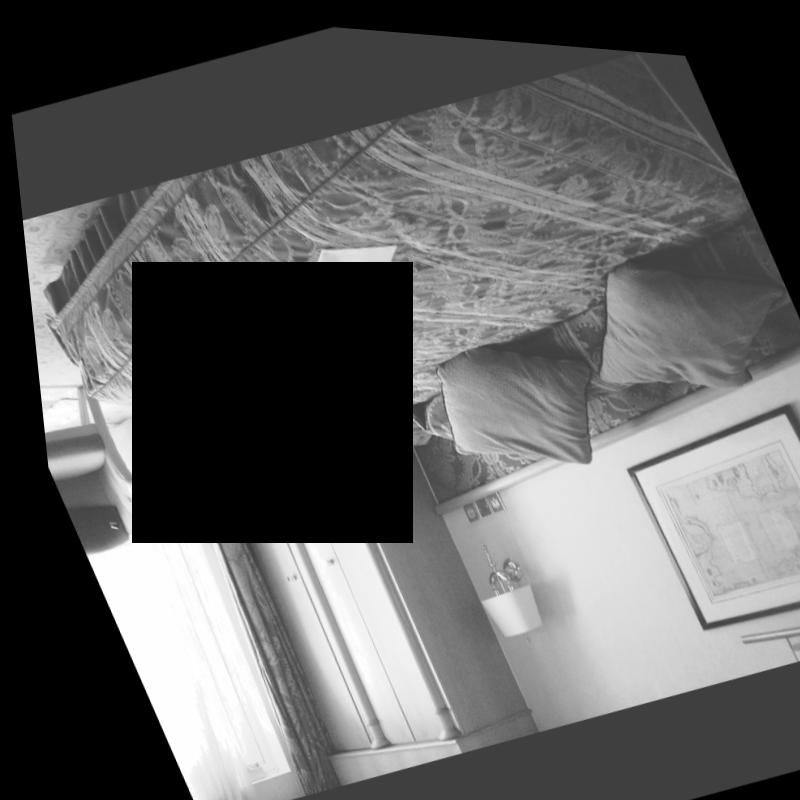pillow: (552, 205, 800, 424), (401, 302, 633, 503)
